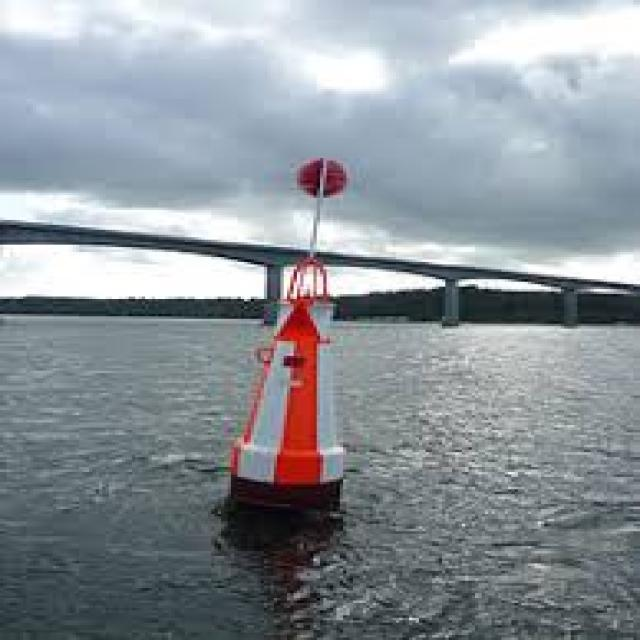buoy: (210, 128, 388, 512)
